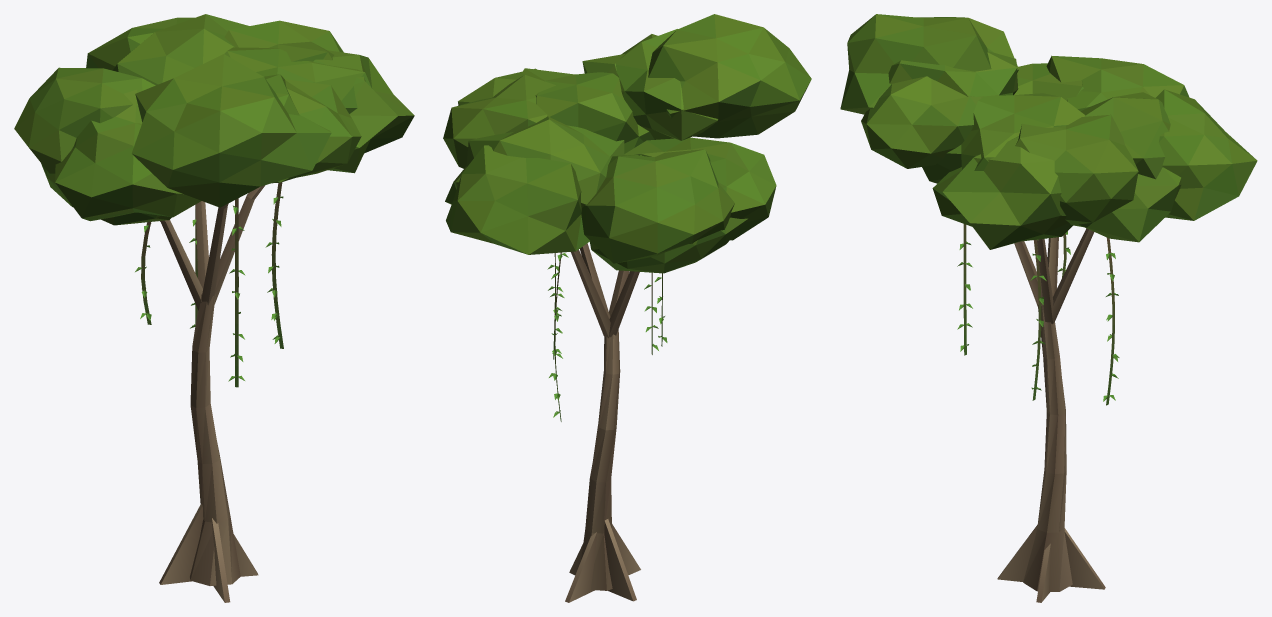
File: canopy_a.glb
The picture shows the model from 3 angles, left to right: view 1: azimuth 30°, elevation 25°; view 2: azimuth 150°, elevation 25°; view 3: azimuth 270°, elevation 25°; orthographic projection. The views are drawn at different scales.
Parts seen in each view (by area): view 1: canopy_a_leafy, canopy_a_solid, canopy_a_leaf; view 2: canopy_a_leafy, canopy_a_solid, canopy_a_leaf; view 3: canopy_a_leafy, canopy_a_solid, canopy_a_leaf.
Part boxes in pixels (box(x1,y1,x2,y2)): canopy_a_leafy: box(14, 14, 414, 225); canopy_a_solid: box(159, 185, 265, 602); canopy_a_leaf: box(135, 182, 283, 387); canopy_a_leafy: box(443, 14, 811, 273); canopy_a_solid: box(565, 243, 640, 602); canopy_a_leaf: box(547, 252, 667, 421); canopy_a_leafy: box(840, 14, 1257, 249); canopy_a_solid: box(997, 228, 1105, 602); canopy_a_leaf: box(957, 224, 1119, 405).
Size of the model in its own units: 9.45 by 15.22 by 10.74.
